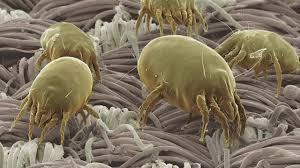insect: (131, 36, 250, 150), (8, 58, 101, 152), (213, 26, 300, 98), (37, 22, 109, 81), (132, 0, 211, 37)
